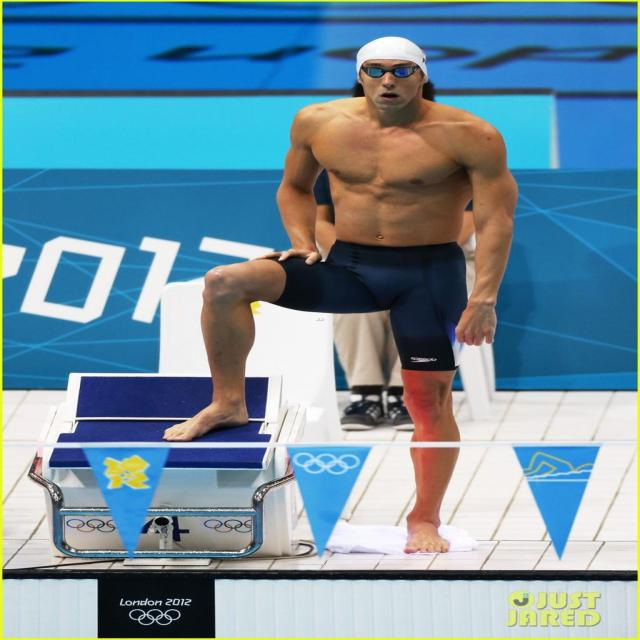Face: (356, 47, 434, 121)
